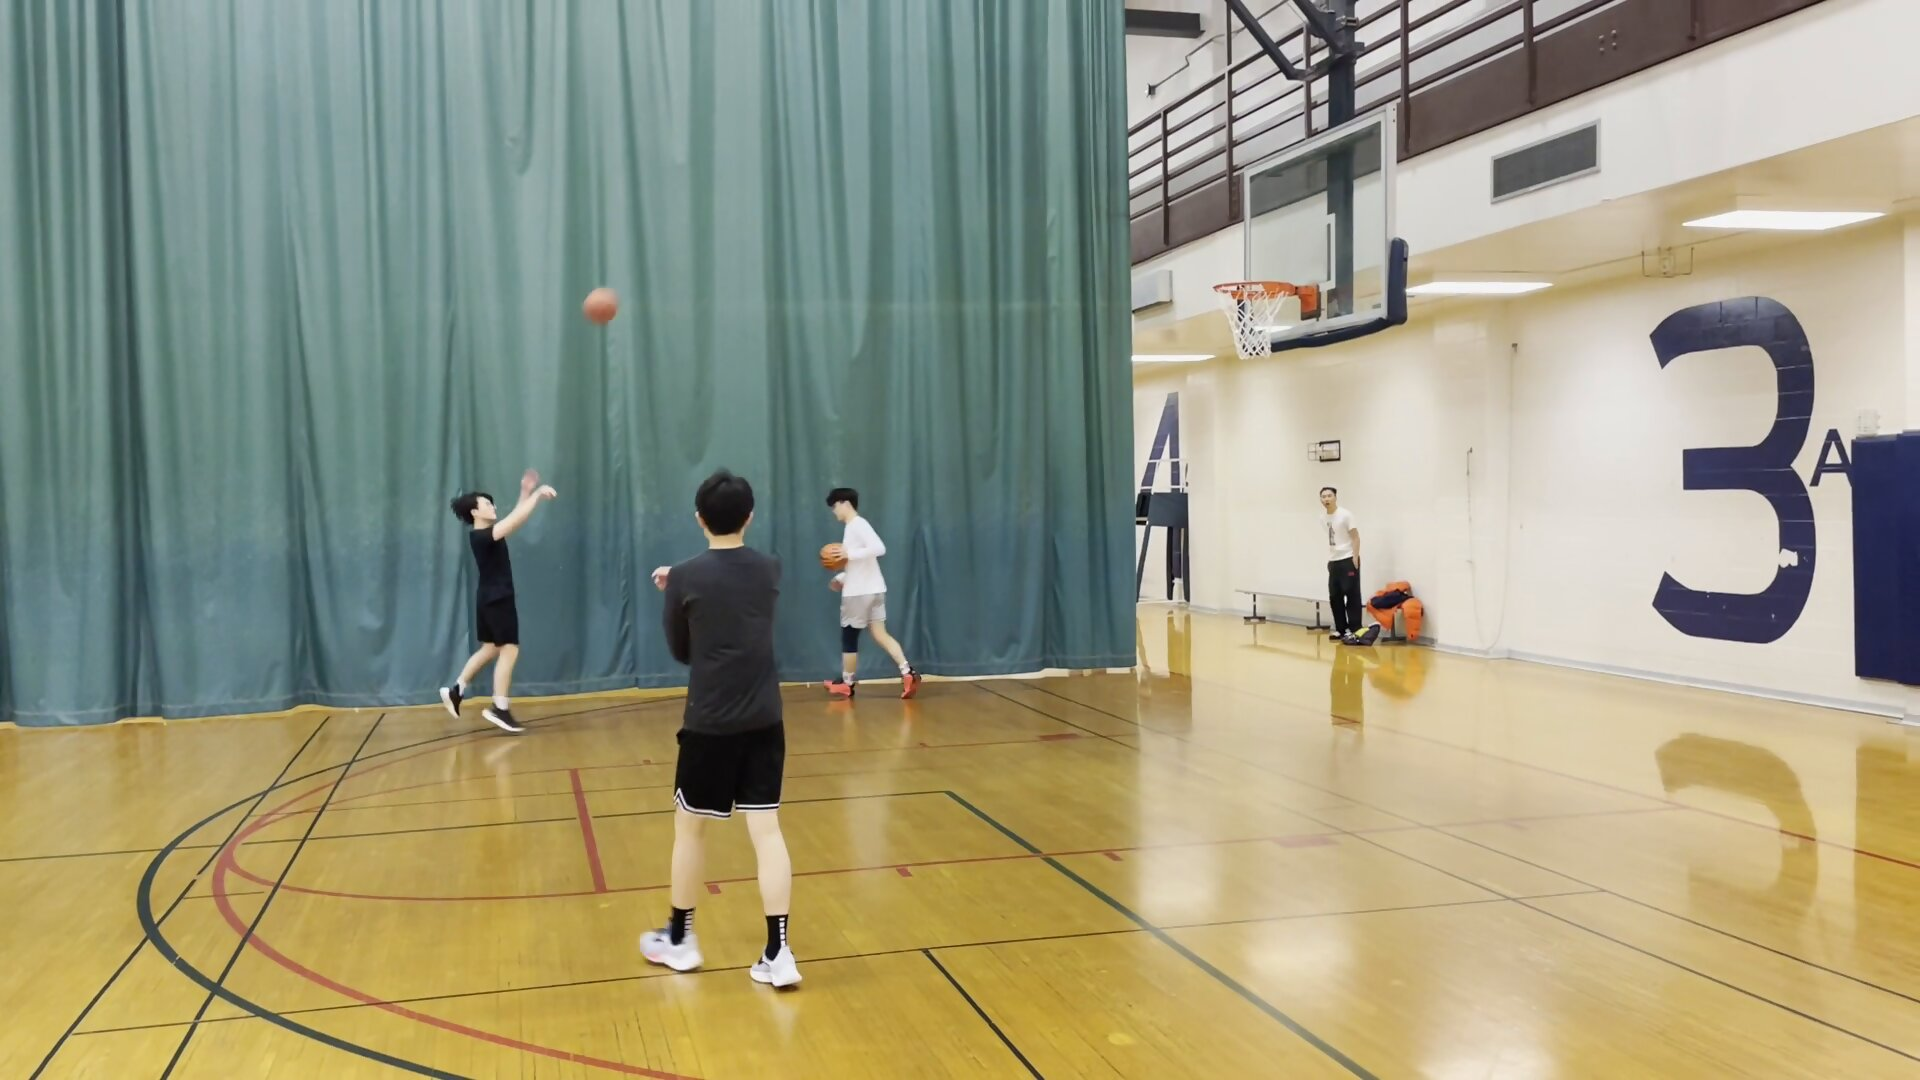ball: (574, 283, 622, 326), (815, 543, 850, 573)
net: (1225, 339, 1281, 364)
player: (643, 469, 808, 992), (439, 468, 559, 739), (814, 482, 926, 702), (1312, 484, 1370, 649)
rim: (1210, 277, 1298, 303)
